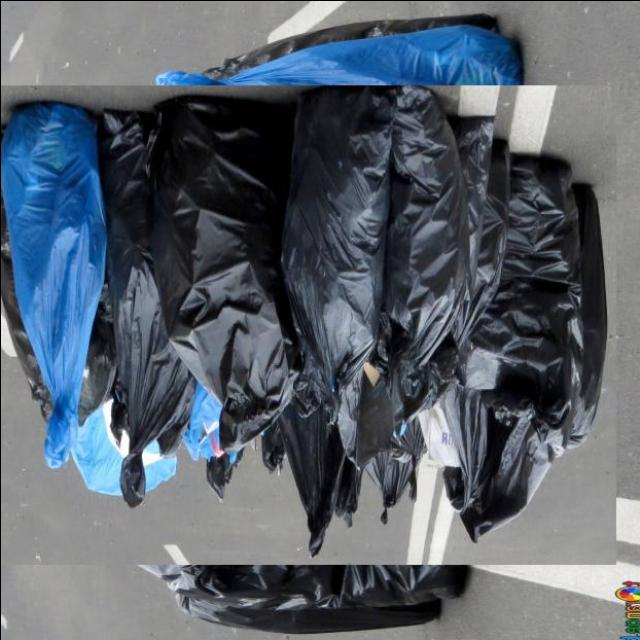plastik: (441, 156, 607, 541), (151, 97, 295, 450), (281, 86, 397, 424), (0, 102, 105, 468), (99, 110, 191, 506), (378, 86, 468, 425), (155, 14, 523, 86), (279, 372, 423, 555), (144, 565, 466, 632), (70, 408, 122, 495)
